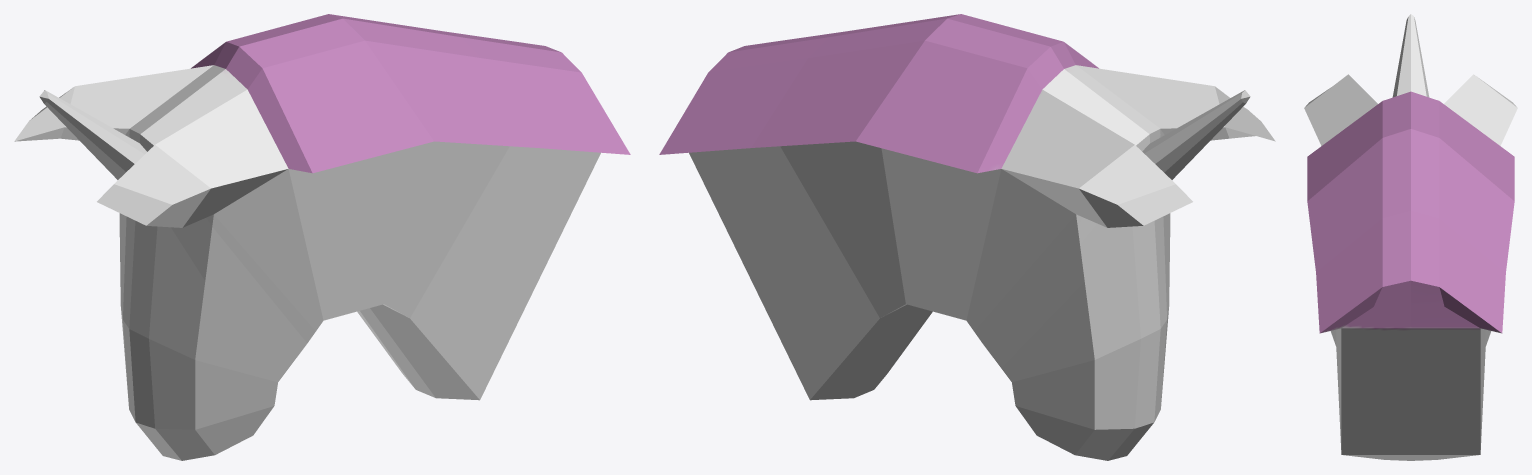
The model's file is Unicon_Separate_Head.fbx.
3 views of the same model, side by side, from view 1: azimuth 30°, elevation 25°; view 2: azimuth 150°, elevation 25°; view 3: azimuth 270°, elevation 25° (orthographic). The views are drawn at different scales.
Visible parts, largest first — view 1: Unicon_Separate_Head; view 2: Unicon_Separate_Head; view 3: Unicon_Separate_Head.
Boxes of the visible parts, x1,y1,x2,y2 form: Unicon_Separate_Head: [14, 14, 630, 460]; Unicon_Separate_Head: [659, 14, 1275, 460]; Unicon_Separate_Head: [1304, 14, 1517, 460].
Bounding box in the file's own units: 1.69 × 1.2 × 0.7522.
